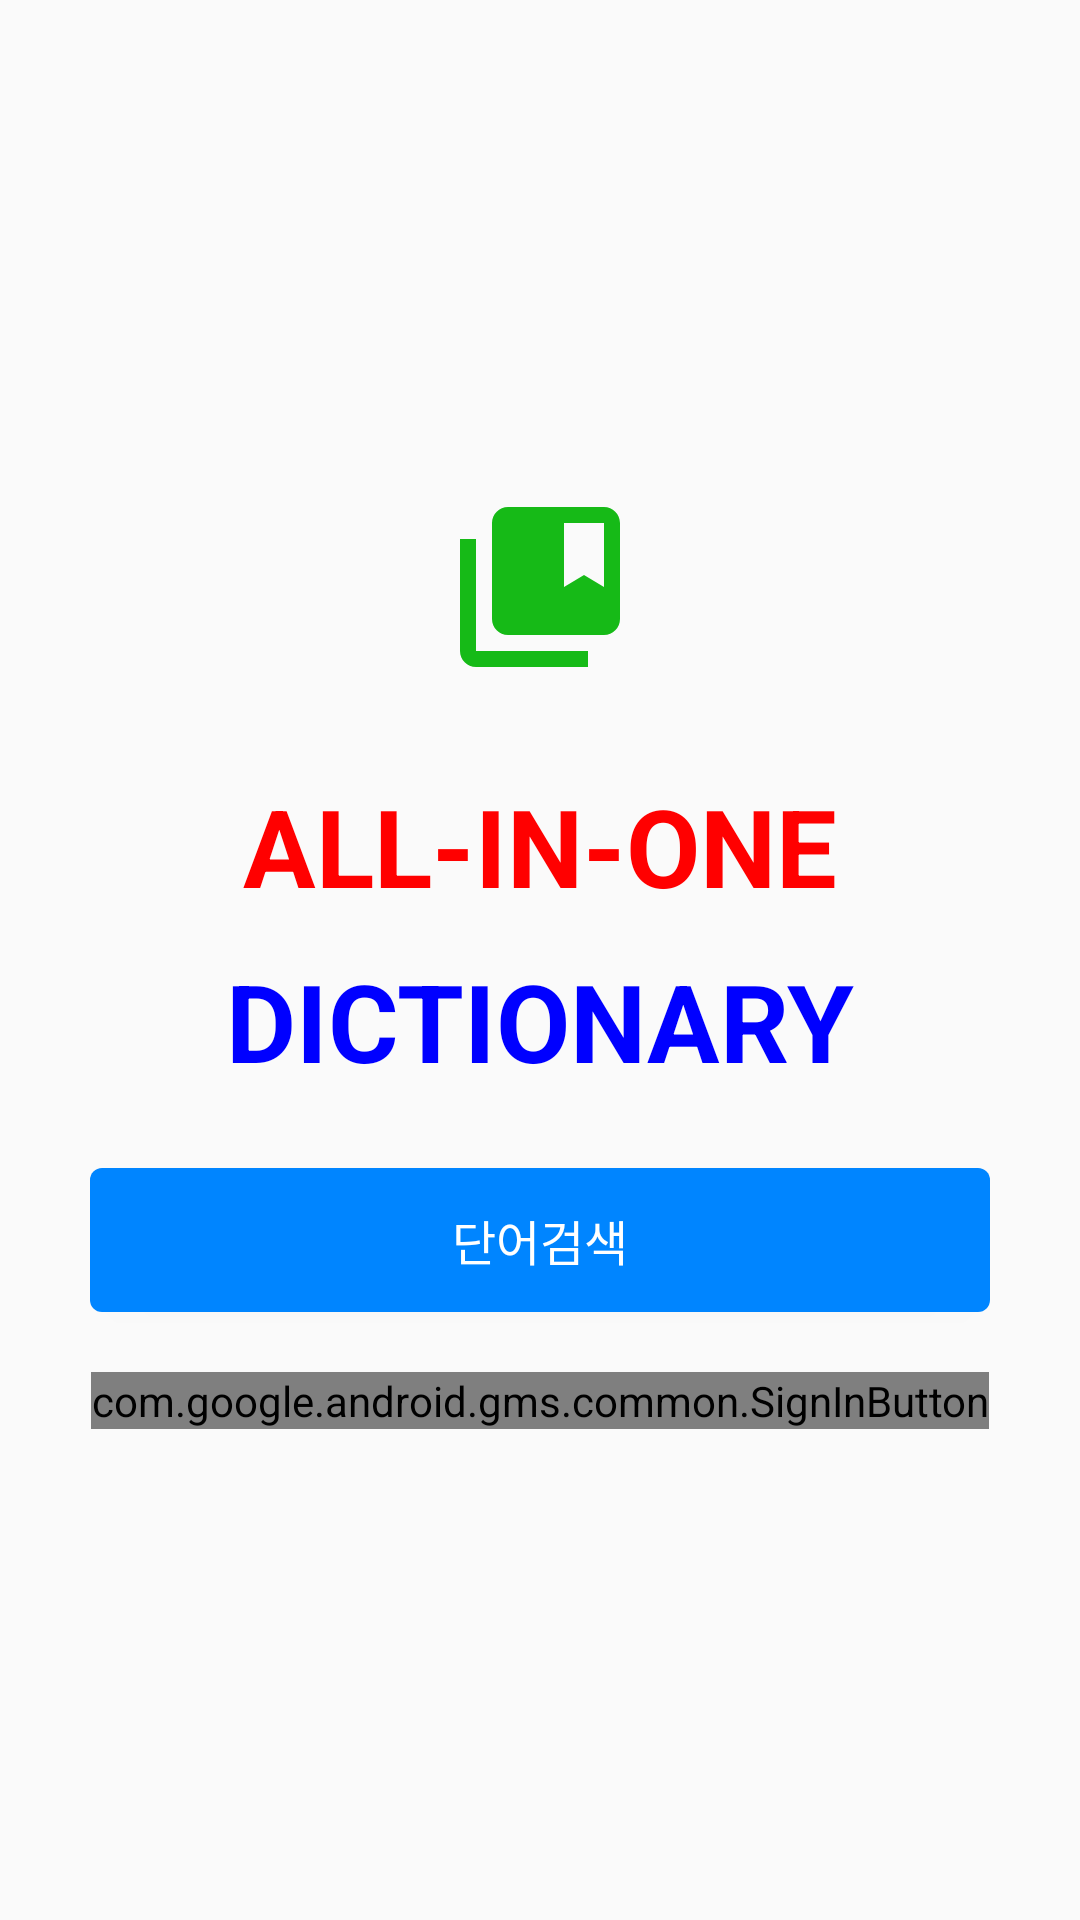

Named icons in this screenshot (1080w x 1920h) and their bounding boxes, (x1, y1, x2, y2):
collections bookmark: (460, 507, 620, 667)
